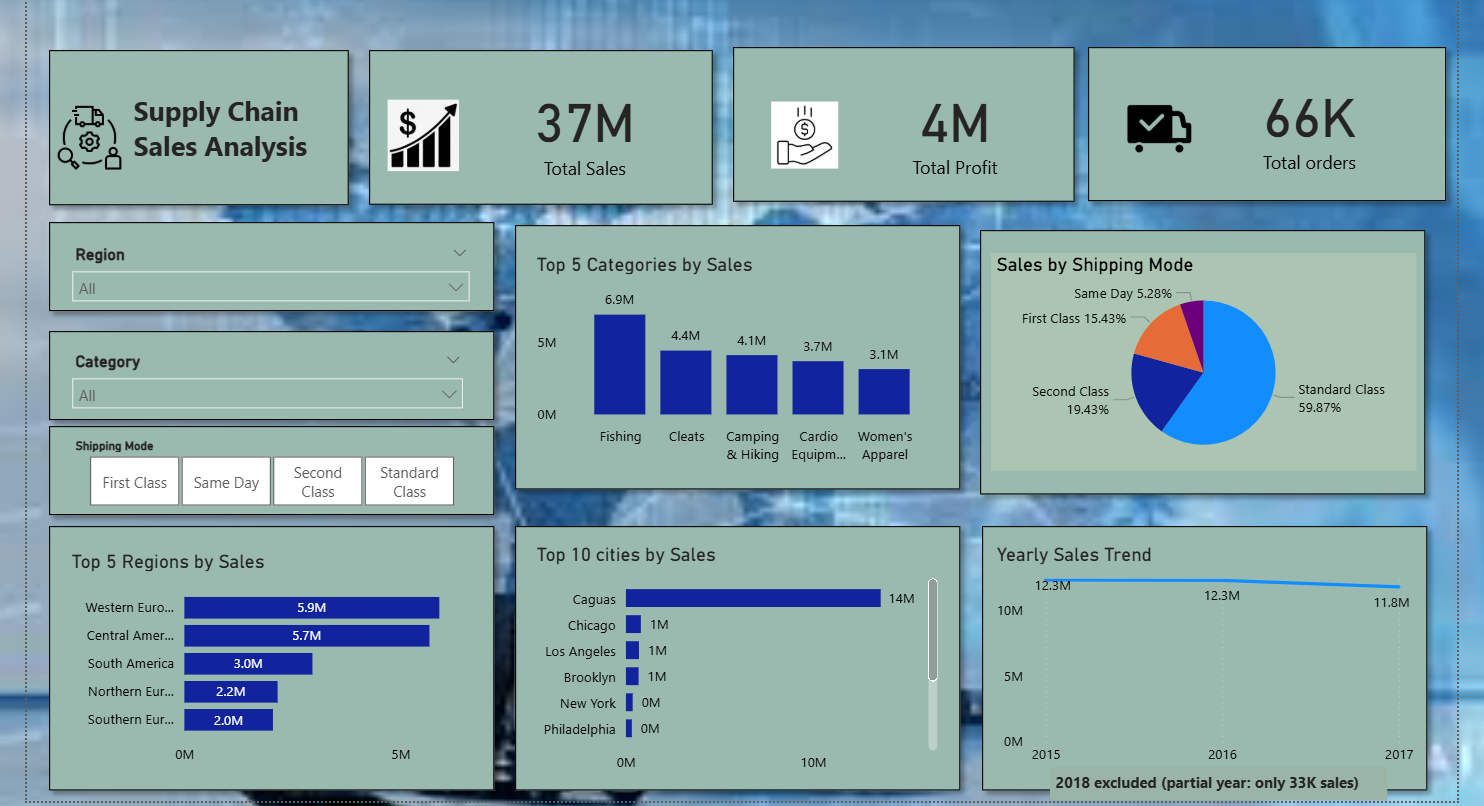

The dashboard page shown, as its layout file describes it:
{"tool":"powerbi","page":{"name":"sales & Logistics analysis","canvas":[1280,720],"ordinal":0},"visuals":[{"type":"shape","box":[10.9,38.5,286.4,157],"z":0},{"type":"shape","box":[297.6,38.9,325.8,156.6],"z":1000},{"type":"image","box":[318.1,77.8,73.9,92.4],"z":2000},{"type":"shape","box":[623.5,36,323.9,156.6],"z":3000},{"type":"card","fields":{"Values":["Supply chain data.Total Sales"]},"box":[400.7,63.2,198.4,108.9],"z":4000},{"type":"card","fields":{"Values":["Supply chain data.Total Profit"]},"box":[746,70,170.2,95.3],"z":5000},{"type":"image","box":[647.9,88.9,97.8,70.1],"z":6000},{"type":"shape","box":[941.2,35.6,338.8,156],"z":7000},{"type":"card","fields":{"Values":["Supply chain data.Total order"]},"box":[1052.8,55.3,190.6,114.6],"z":8000},{"type":"image","box":[964,72.1,100.7,90.9],"z":9000},{"type":"shape","box":[10.9,465.2,416.8,254.8],"z":10000},{"type":"barChart","title":"Top 5 Regions by Sales","fields":{"Category":["Supply chain data.Order Region"],"Y":["Sum(Supply chain data.Sales)"]},"box":[34.9,495.2,371.6,201.5],"z":11000},{"type":"shape","box":[427.7,195.6,416.8,254.8],"z":12000},{"type":"columnChart","title":"Top 5 Categories by Sales","fields":{"Category":["Supply chain data.Category Name"],"Y":["Sum(Supply chain data.Sales)"]},"box":[451.4,229.1,369.4,195.6],"z":13000},{"type":"shape","box":[844.4,199.5,416.8,254.8],"z":14000},{"type":"shape","box":[427.7,465.2,416.8,254.8],"z":15000},{"type":"clusteredBarChart","title":"Top 10 cities by Sales","fields":{"Category":["Supply chain data.Customer City"],"Y":["Sum(Supply chain data.Sales)"]},"box":[451.3,489,369,214.9],"z":16000},{"type":"shape","box":[846.4,465.2,416.8,254.8],"z":17000},{"type":"lineChart","title":"Yearly Sales Trend","fields":{"Category":["Supply chain data.order date (DateOrders).Variation.Date Hierarchy.Year"],"Y":["Sum(Supply chain data.Sales)"]},"box":[863.2,488.9,383.2,207.4],"z":18000},{"type":"shape","box":[10.9,192.6,416.8,97.8],"z":19000},{"type":"shape","box":[10.9,290.4,416.8,97.8],"z":20000},{"type":"shape","box":[10.9,375.3,416.8,97.8],"z":21000},{"type":"slicer","fields":{"Values":["Supply chain data.Order Region"]},"box":[30.6,217.3,376.3,57.3],"z":22000},{"type":"slicer","fields":{"Values":["Supply chain data.Category Name"]},"box":[30.6,313.1,370.4,58.3],"z":23000},{"type":"slicer","fields":{"Values":["Supply chain data.Shipping Mode"]},"box":[30.6,390.1,376.3,66.2],"z":24000},{"type":"textbox","box":[90.9,80,180.7,87.9],"z":25000},{"type":"image","box":[21.7,90.9,69.1,70.1],"z":26000},{"type":"pieChart","title":" Sales by Shipping Mode","fields":{"Category":["Supply chain data.Shipping Mode"],"Y":["Sum(Supply chain data.Sales)"]},"box":[863.3,229.3,380.6,195.2],"z":27000},{"type":"textbox","box":[916.1,689.6,301.8,30.4],"z":28000}]}

Visuals, with their boxes on the page's 1280x720 design canvas (x1, y1, x2, y2). These are canvas units, not pixel positions in the 1484x806 screenshot, which may show the page scaled, cropped or inside an application window:
shape: (11,38,297,196)
shape: (298,39,623,196)
image: (318,78,392,170)
shape: (624,36,947,193)
card - Supply chain data.Total Sales: (401,63,599,172)
card - Supply chain data.Total Profit: (746,70,916,165)
image: (648,89,746,159)
shape: (941,36,1280,192)
card - Supply chain data.Total order: (1053,55,1243,170)
image: (964,72,1065,163)
shape: (11,465,428,720)
"Top 5 Regions by Sales" barChart: (35,495,406,697)
shape: (428,196,844,450)
"Top 5 Categories by Sales" columnChart: (451,229,821,425)
shape: (844,200,1261,454)
shape: (428,465,844,720)
"Top 10 cities by Sales" clusteredBarChart: (451,489,820,704)
shape: (846,465,1263,720)
"Yearly Sales Trend" lineChart: (863,489,1246,696)
shape: (11,193,428,290)
shape: (11,290,428,388)
shape: (11,375,428,473)
slicer - Supply chain data.Order Region: (31,217,407,275)
slicer - Supply chain data.Category Name: (31,313,401,371)
slicer - Supply chain data.Shipping Mode: (31,390,407,456)
textbox: (91,80,272,168)
image: (22,91,91,161)
" Sales by Shipping Mode" pieChart: (863,229,1244,424)
textbox: (916,690,1218,720)
